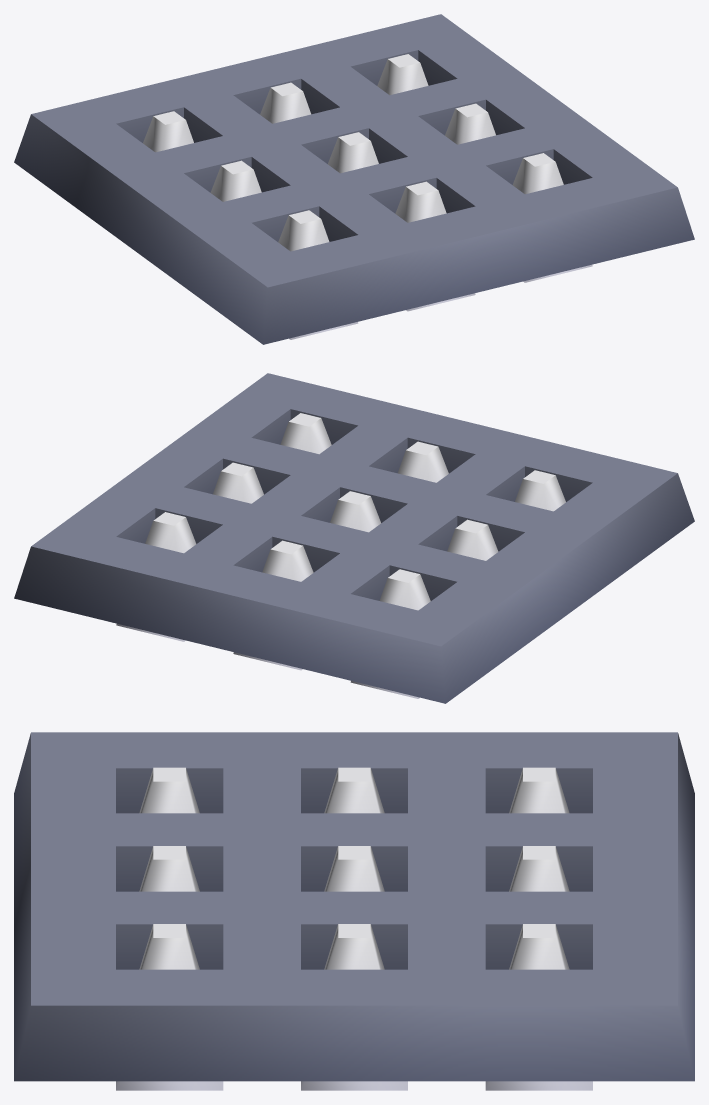
The model's file is trap-spikes-large.glb.
The picture shows the model from 3 angles, top to bottom: view 1: azimuth 30°, elevation 25°; view 2: azimuth 150°, elevation 25°; view 3: azimuth 270°, elevation 25°; orthographic projection. The views are drawn at different scales.
Visible parts, largest first — view 1: trap-spikes-large, spikes; view 2: trap-spikes-large, spikes; view 3: trap-spikes-large, spikes.
Boxes of the visible parts, x1,y1,x2,y2 form: trap-spikes-large: [14, 14, 694, 344]; spikes: [143, 54, 592, 339]; trap-spikes-large: [14, 373, 694, 703]; spikes: [116, 413, 565, 698]; trap-spikes-large: [14, 732, 694, 1081]; spikes: [116, 767, 592, 1090].
Size of the model in its own units: 0.765 by 0.17 by 0.765.
Materials: 1 (1 with a texture image).
